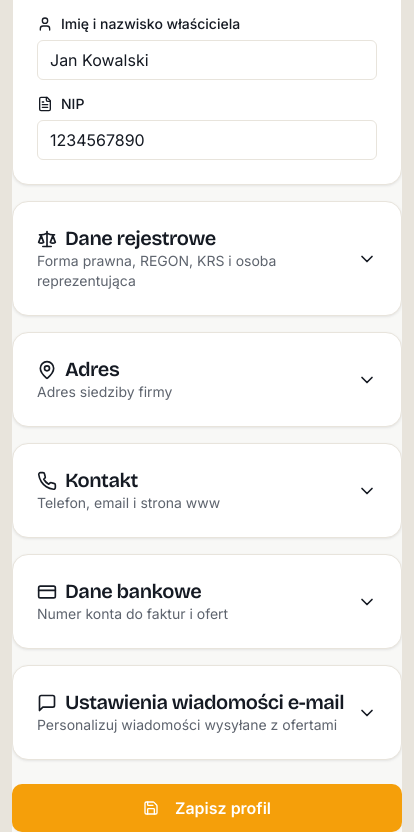
Test: CompanyProfile › form pre-population › should pre-populate email_subject_template from loaded profile
(page scrolled)
// Otwórz sekcję Szablony email (domyślnie zamknięta)
Click the heading "Ustawienia wiadomości e-mail".
click(190, 703)  # box [37,690,344,715]
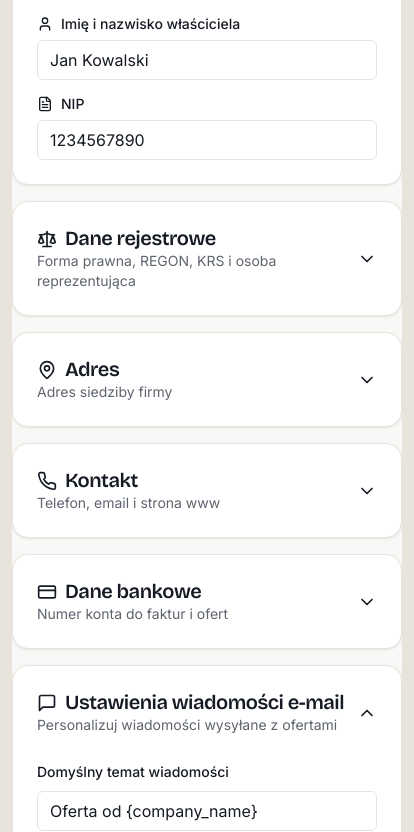
Result: the field showing "Oferta od {company_name}" is shown at [37,791,377,831]
